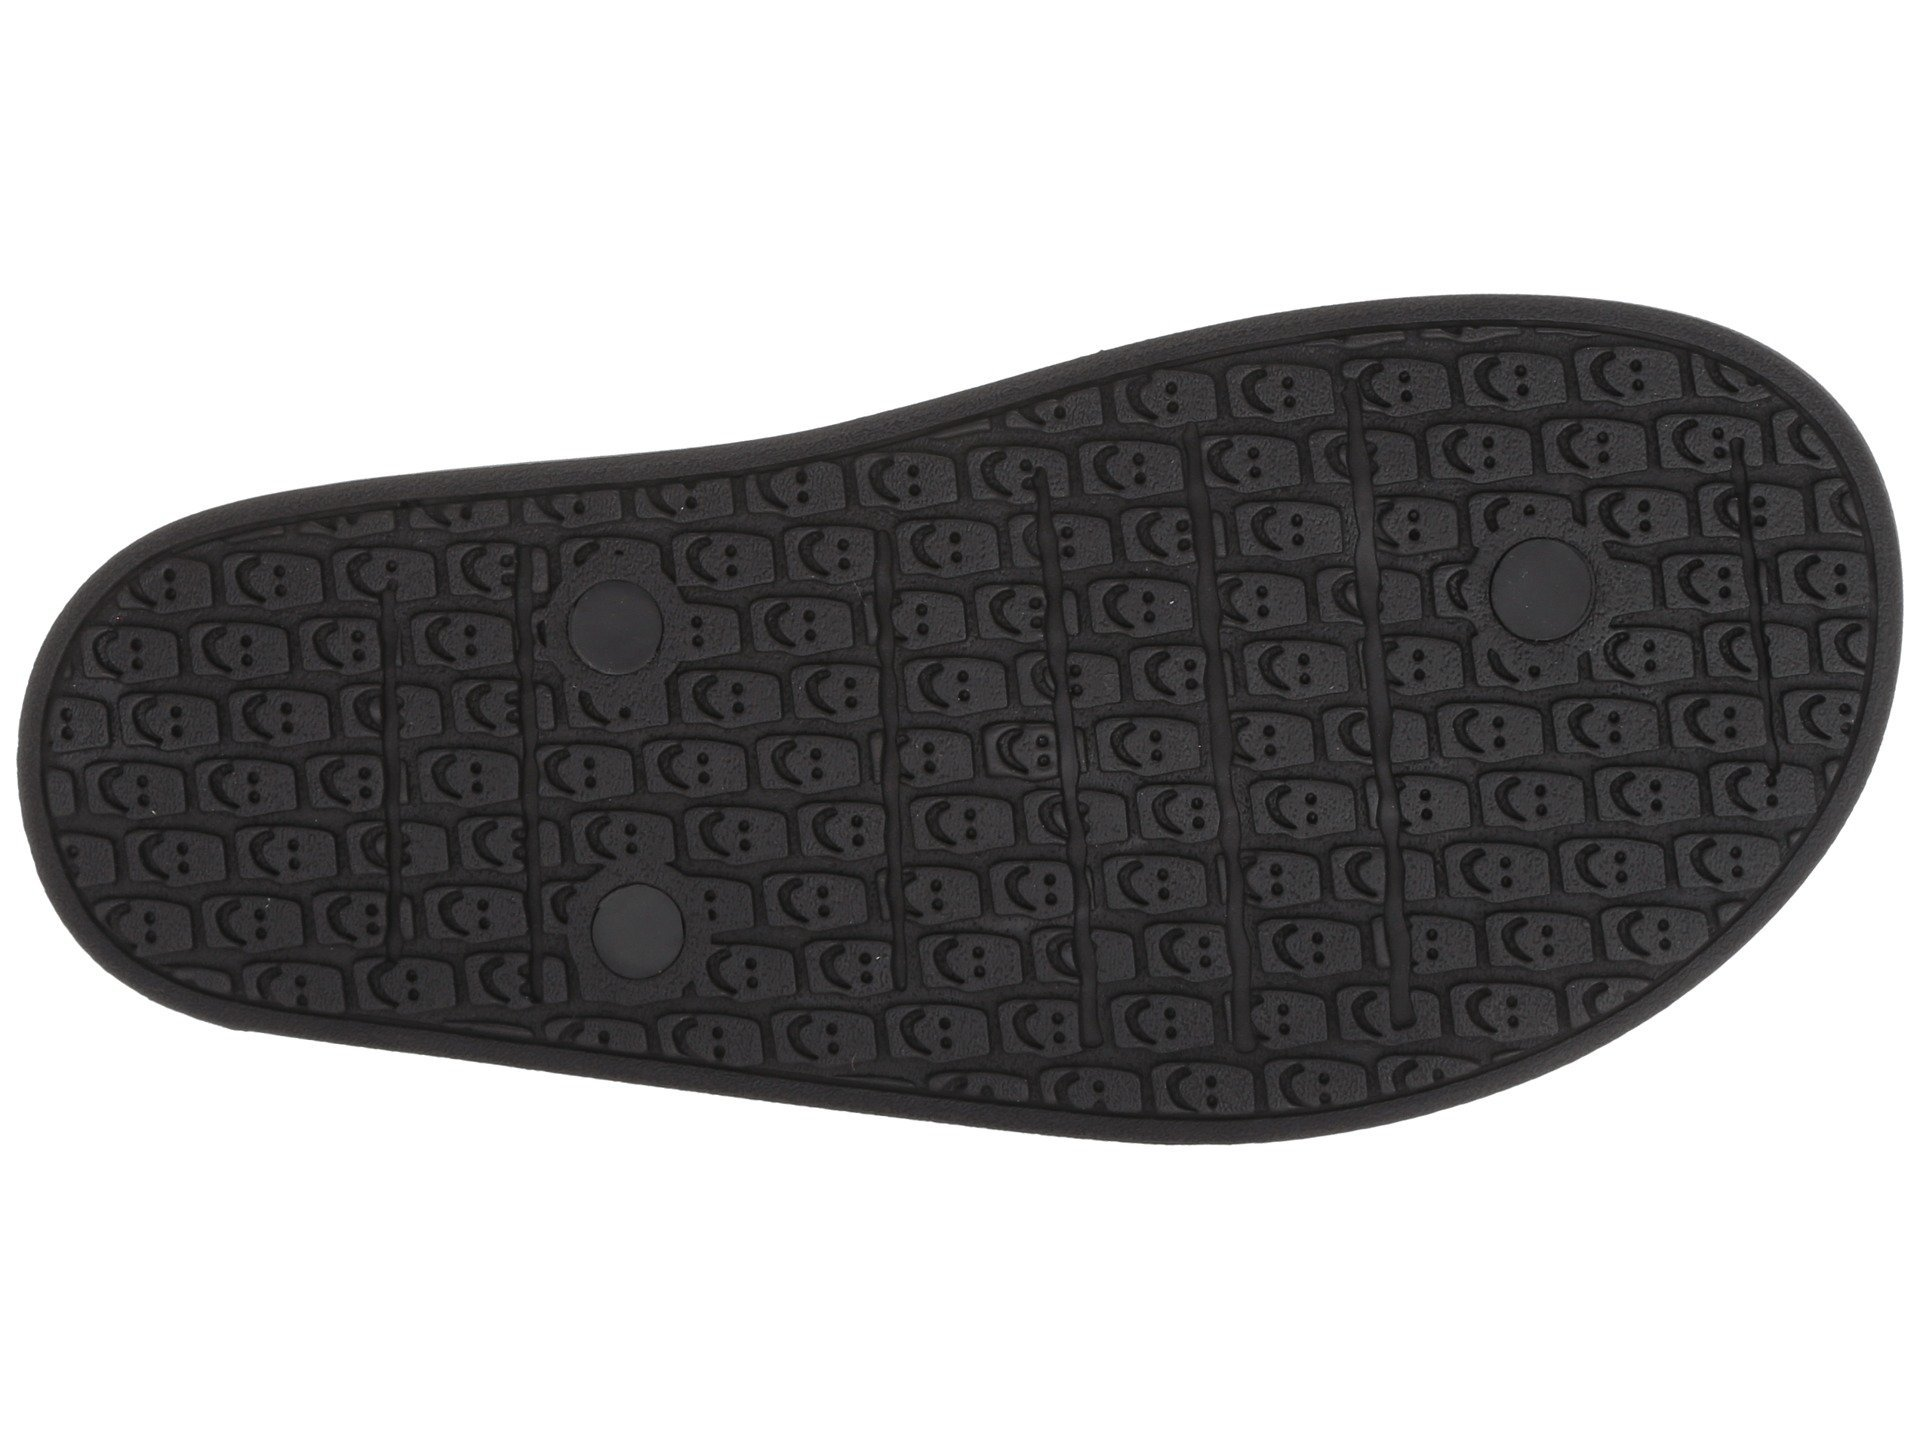chevron: (528, 528, 871, 796)
circle: (528, 528, 871, 796)
quad: (528, 528, 871, 796)
